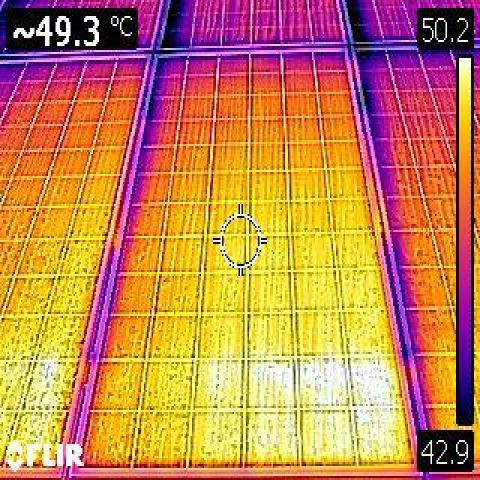fault: (213, 355, 400, 405)
